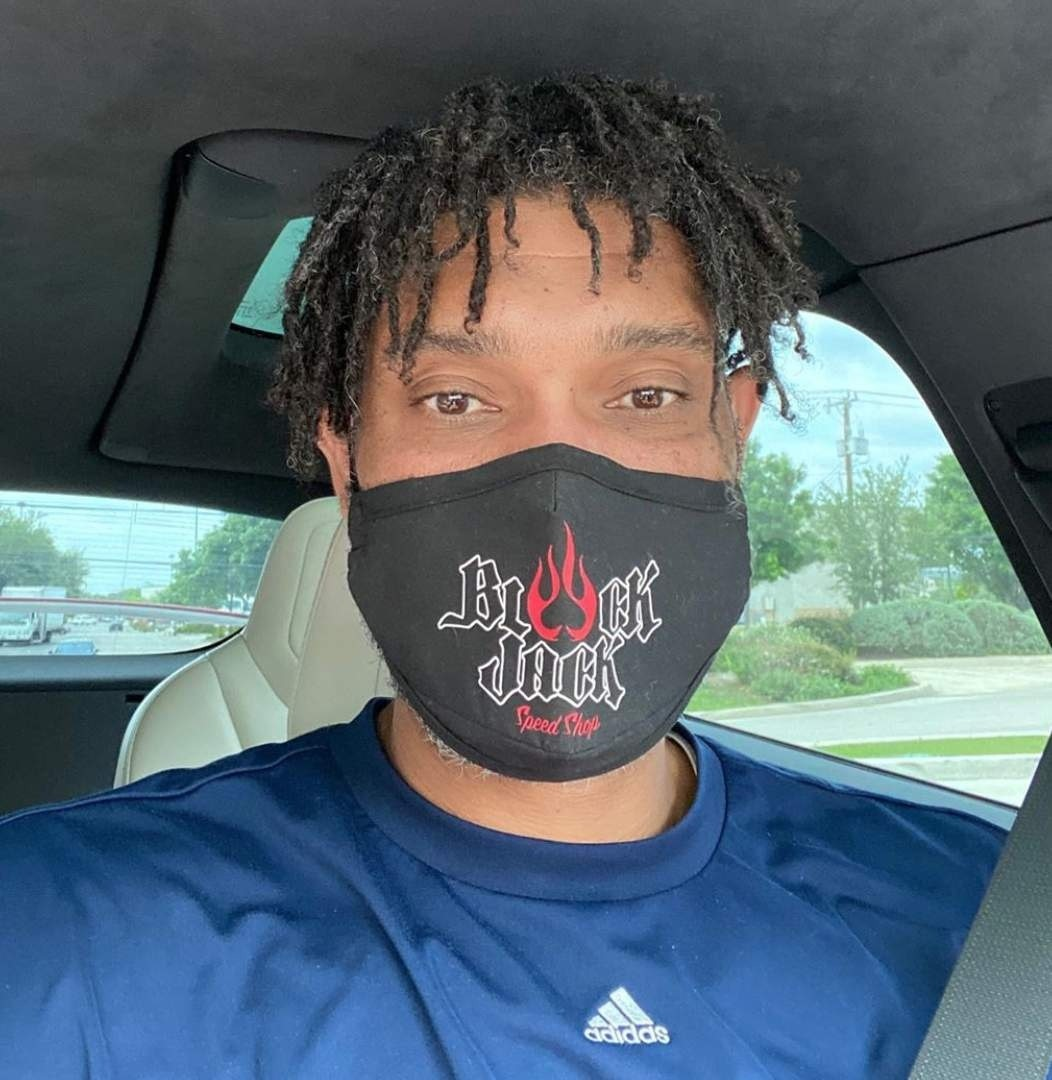face_with_mask: (315, 82, 775, 783)
